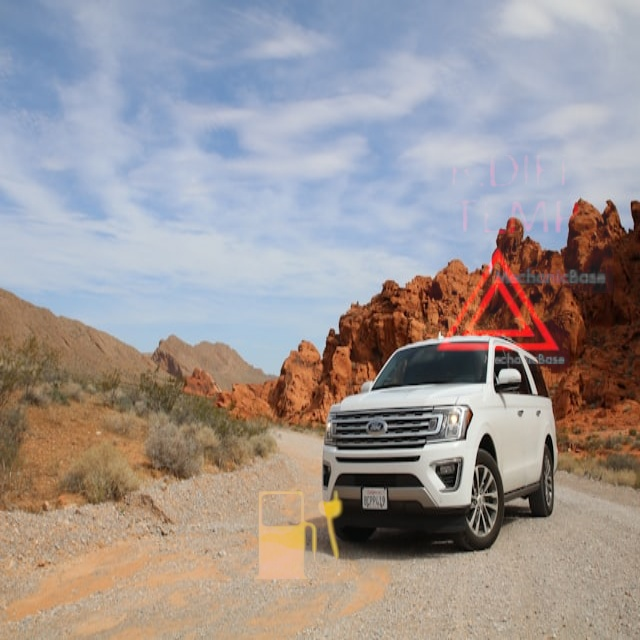symbol: (418, 98, 613, 293), (205, 445, 389, 629), (428, 229, 570, 371)
